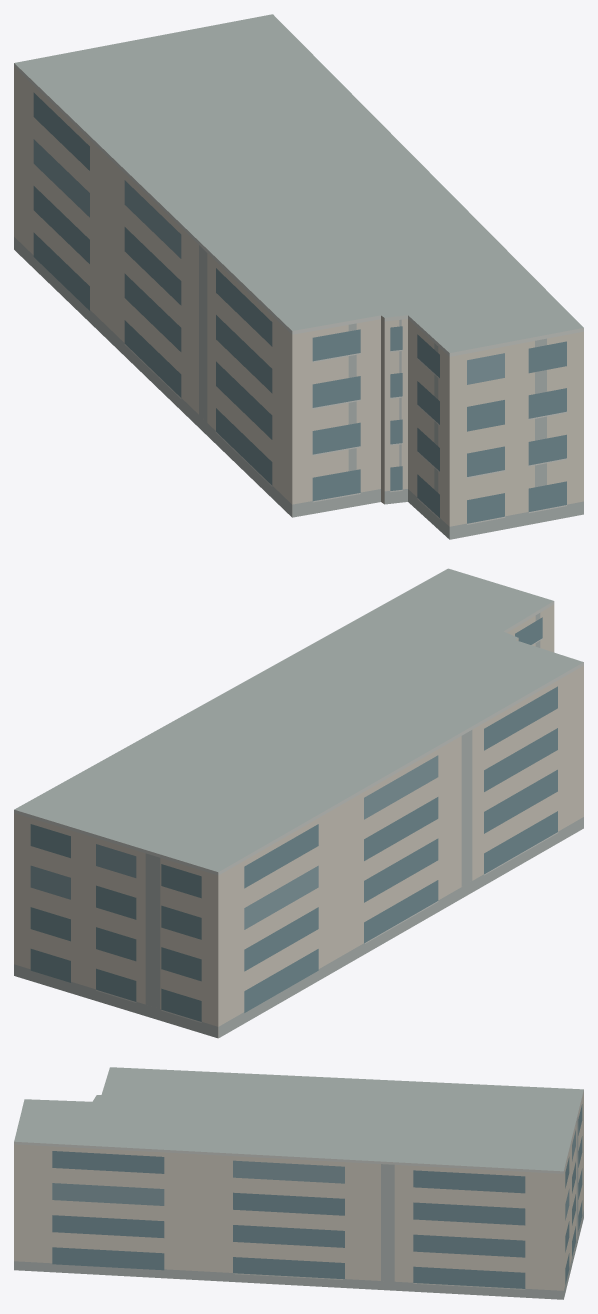
Rendered from survey-upis-32757360.glb.
3 views of the same model, one above another, from view 1: azimuth 30°, elevation 25°; view 2: azimuth 150°, elevation 25°; view 3: azimuth 270°, elevation 25° (orthographic). The views are drawn at different scales.
Visible parts, largest first — view 1: survey-upis-32757360.tmp; view 2: survey-upis-32757360.tmp; view 3: survey-upis-32757360.tmp.
Part boxes in pixels (x1,y1,x2,y2): survey-upis-32757360.tmp: (14,14,583,539); survey-upis-32757360.tmp: (14,568,583,1038); survey-upis-32757360.tmp: (14,1067,583,1299).
Size of the model in its own units: 21.23 by 12.2 by 49.06.
